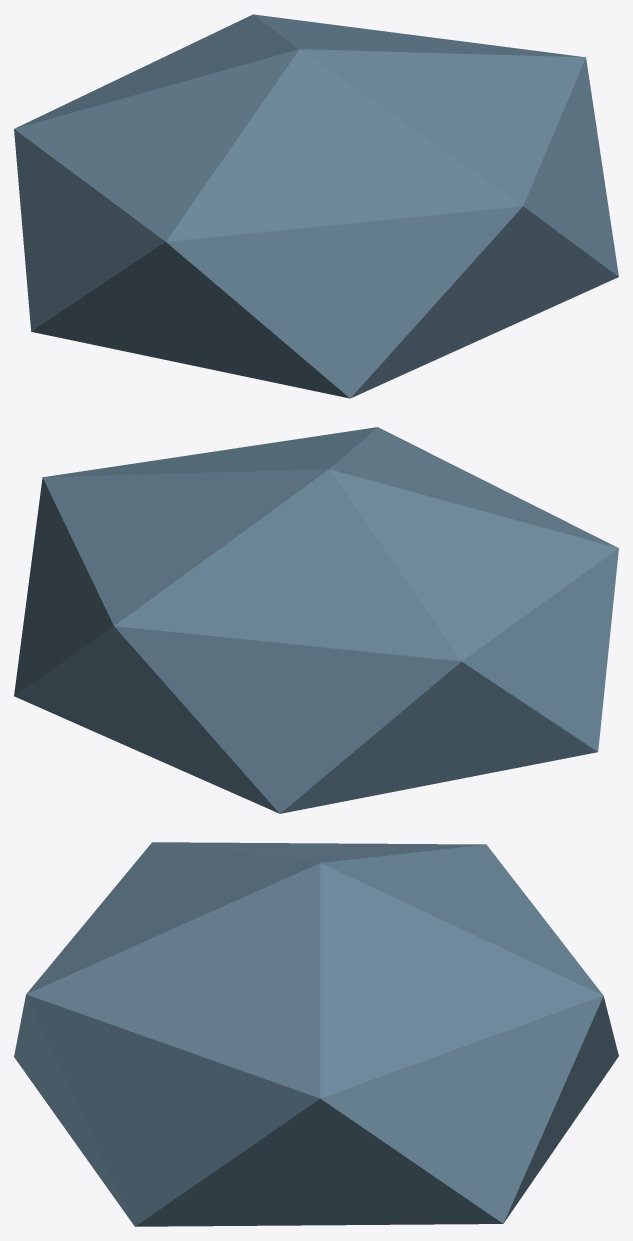
File: enfeite_pedra_baixa.glb
3 views of the same model, one above another, from view 1: azimuth 30°, elevation 25°; view 2: azimuth 150°, elevation 25°; view 3: azimuth 270°, elevation 25° (orthographic). The views are drawn at different scales.
Parts seen in each view (by area): view 1: neve_enfeite_pedra_baixa; view 2: neve_enfeite_pedra_baixa; view 3: neve_enfeite_pedra_baixa.
Boxes of the visible parts, box(x1,y1,x2,y2) form: neve_enfeite_pedra_baixa: box(14, 14, 618, 398); neve_enfeite_pedra_baixa: box(14, 427, 618, 813); neve_enfeite_pedra_baixa: box(14, 842, 618, 1226).
Bounding box in the file's own units: 0.4304 × 0.2264 × 0.3754.
